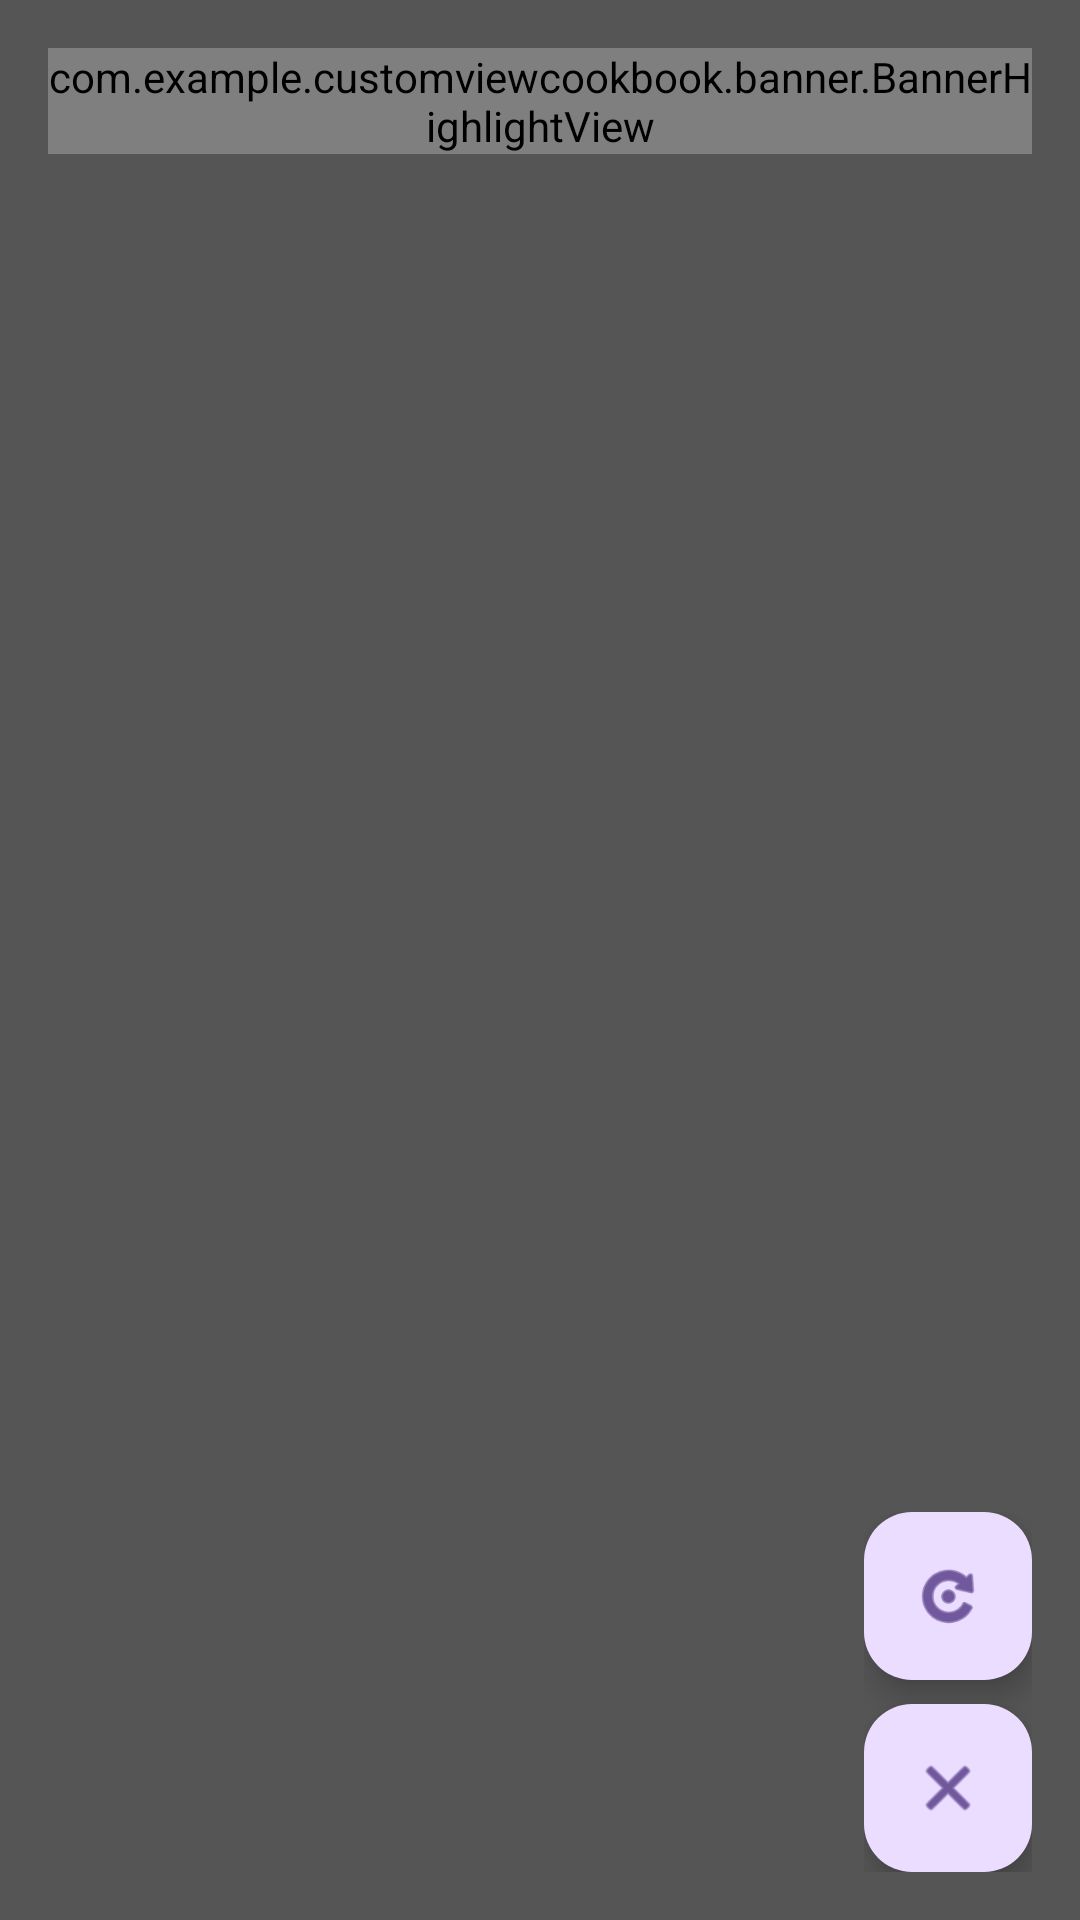

Screen size 1080 x 1920. Icon name, then its box in pixels as (x1, y1, x2, y2):
simular erro na contagem: (864, 1704, 1032, 1872)
simular reinicio da contagem: (864, 1512, 1032, 1680)
